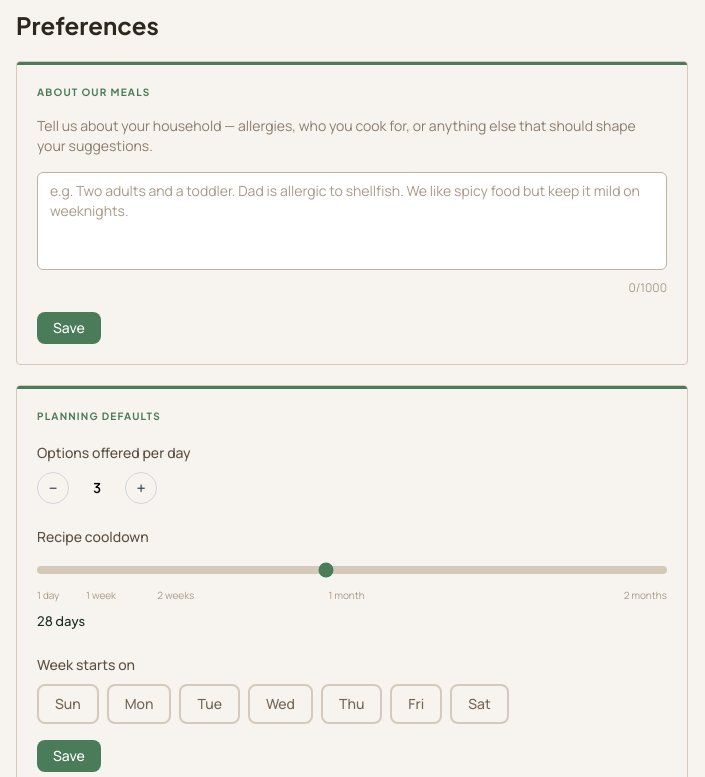
Test: T13 - Saved ✓ success state › shows Saved ✓ after clicking Save
The width and height of the screenshot is (705, 777).
Click the button "Save" below "About our meals".
click(69, 328)  # box [37, 312, 101, 344]
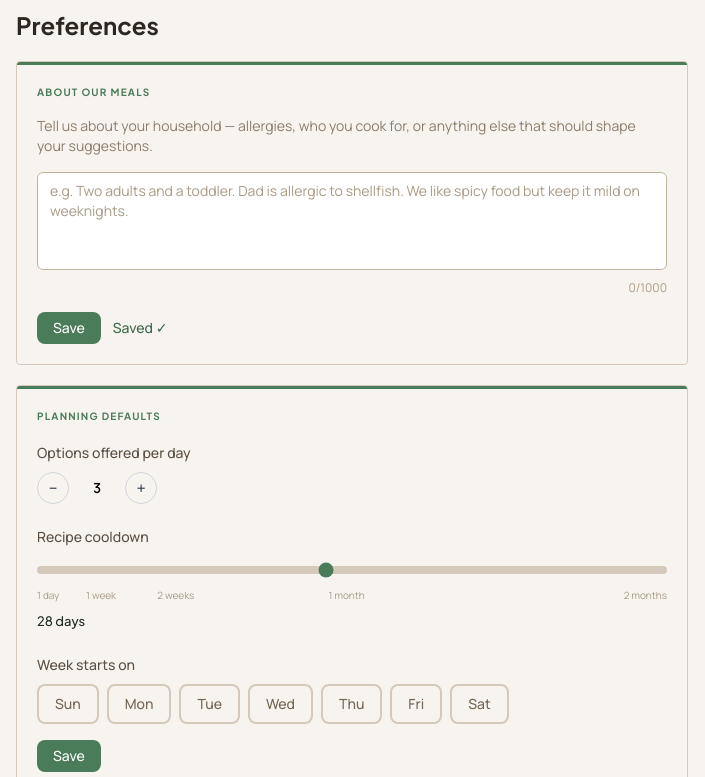
Result: the text "Saved ✓" is shown at [113, 318, 167, 338]
